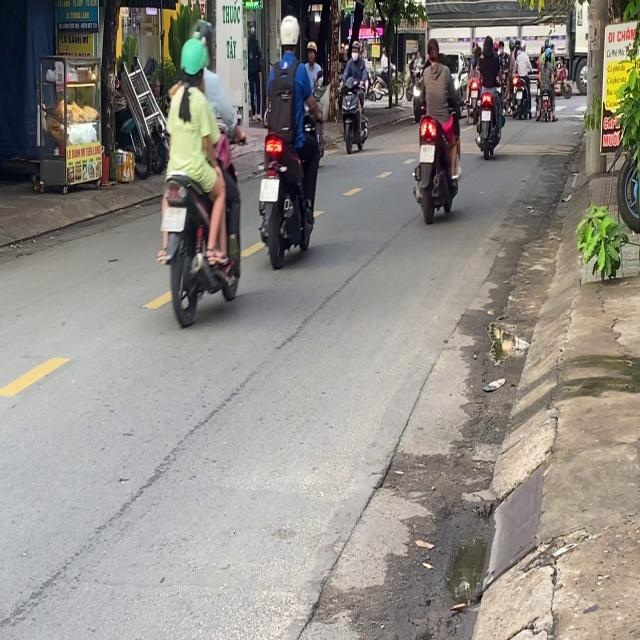helmet: (179, 36, 207, 88), (192, 17, 216, 61), (278, 14, 299, 54), (350, 38, 361, 59)
licenseplate: (156, 19, 245, 323), (256, 13, 321, 266), (412, 33, 462, 221), (338, 37, 369, 153)
motorcyclist: (426, 35, 440, 63)
nohelmet: (162, 207, 186, 231), (259, 180, 279, 202), (419, 144, 435, 162)
